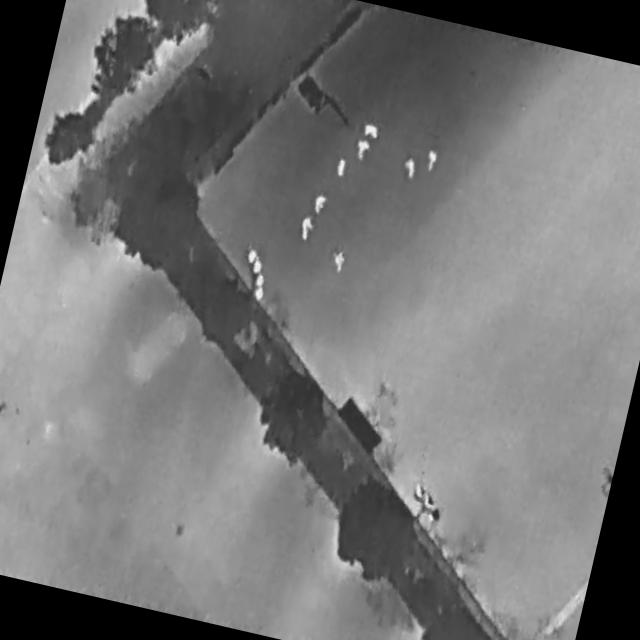person: (400, 155, 421, 183), (359, 121, 384, 144), (330, 248, 348, 276), (299, 217, 316, 243), (354, 139, 372, 163), (312, 195, 328, 217), (425, 150, 440, 173), (336, 159, 348, 180)
